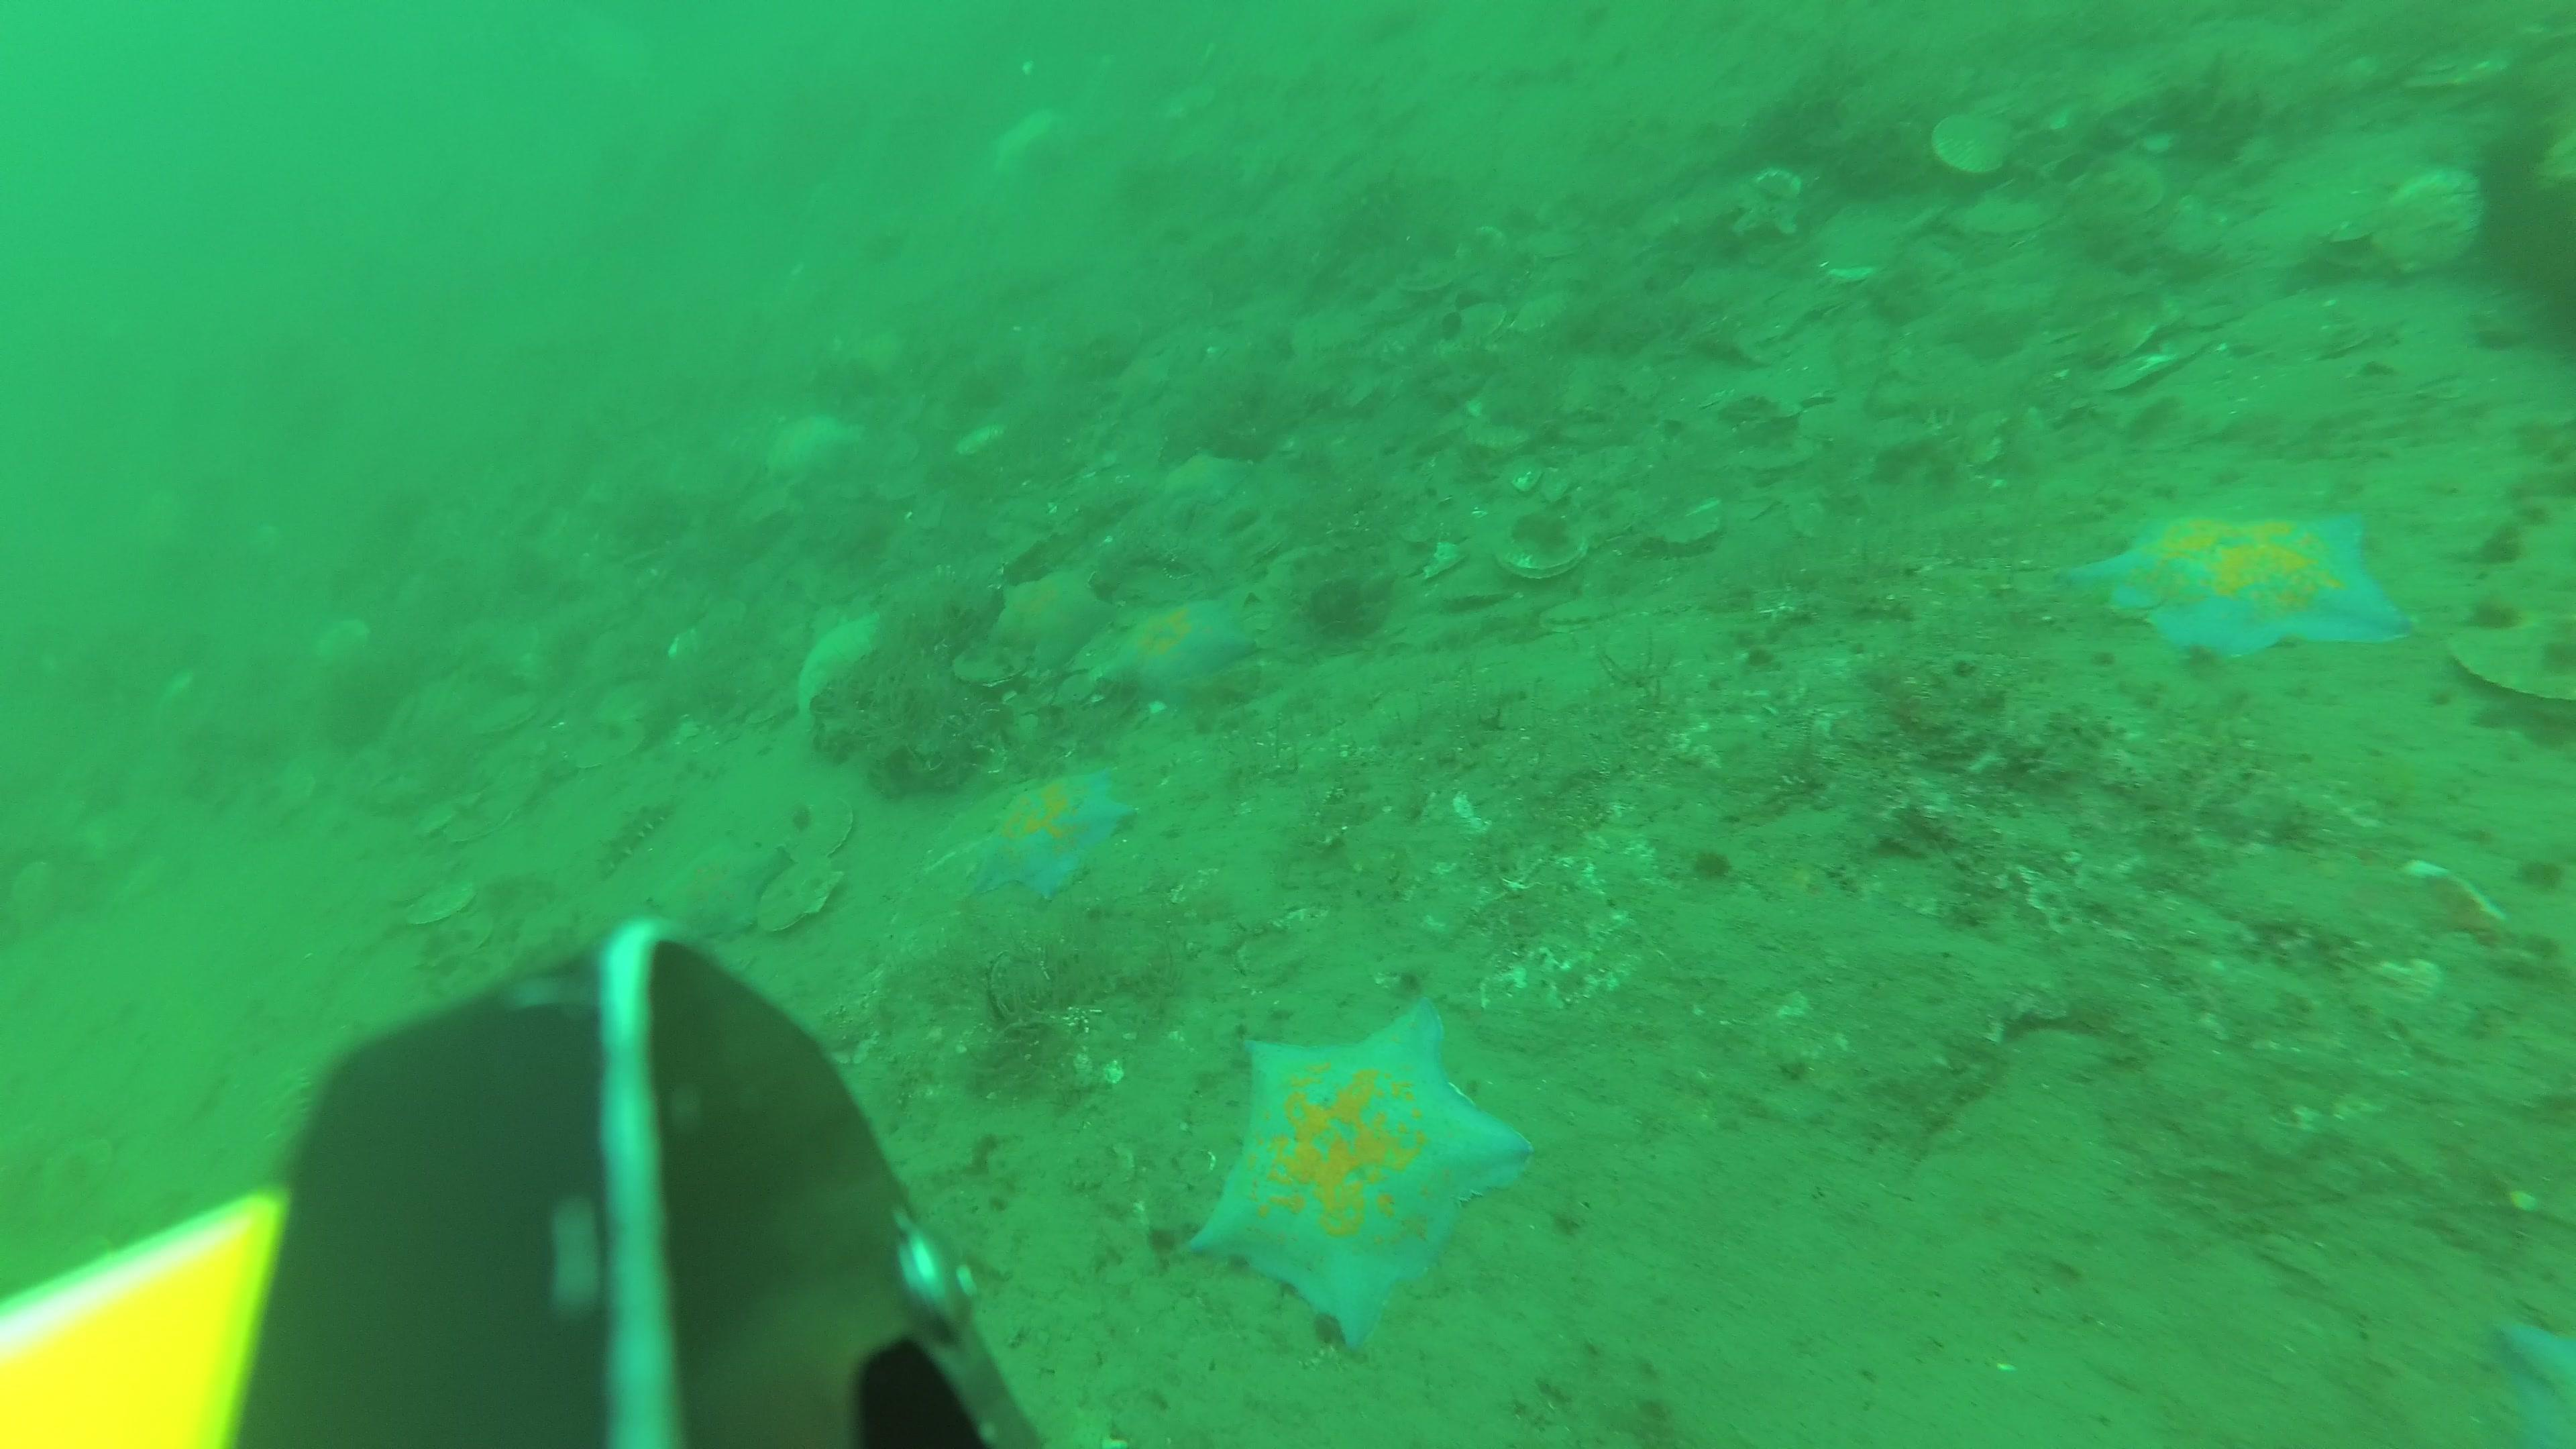echinus: (2477, 119, 2569, 230), (2498, 235, 2576, 350)
holothurian: (594, 793, 672, 879)
scallop: (2374, 166, 2480, 280), (759, 855, 840, 934), (1937, 111, 2022, 175), (1491, 525, 1587, 580), (787, 798, 856, 867), (396, 879, 478, 924), (573, 725, 648, 773), (449, 798, 522, 844), (313, 621, 373, 669), (478, 694, 540, 736)
starfish: (1189, 1003, 1530, 1361), (2068, 515, 2424, 667), (970, 766, 1131, 906), (1095, 598, 1249, 711), (648, 833, 784, 945), (2493, 1316, 2576, 1449), (996, 570, 1104, 665), (768, 409, 858, 492), (1159, 449, 1251, 511)
